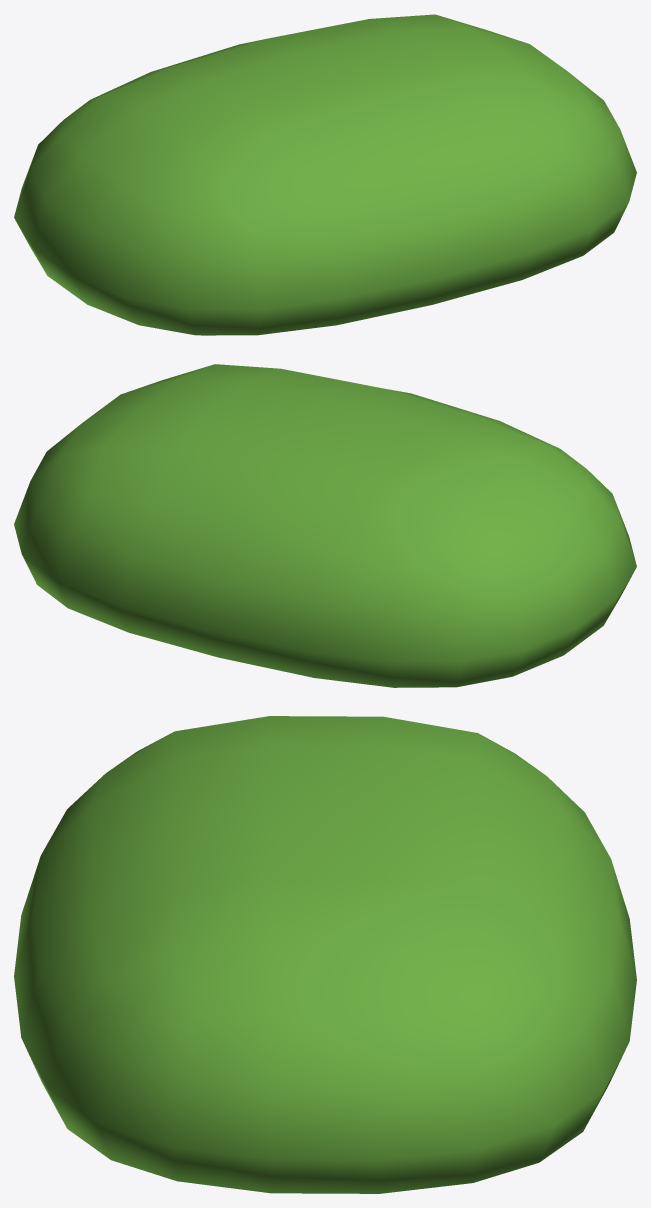
Rendered from Pillow_001.fbx.
3 renders of one model, top to bottom at view 1: azimuth 30°, elevation 25°; view 2: azimuth 150°, elevation 25°; view 3: azimuth 270°, elevation 25°, orthographic. The views are drawn at different scales.
Parts seen in each view (by area): view 1: Pillow_001; view 2: Pillow_001; view 3: Pillow_001.
Boxes of the visible parts, x1,y1,x2,y2 form: Pillow_001: [14, 14, 636, 335]; Pillow_001: [14, 364, 636, 687]; Pillow_001: [14, 716, 636, 1193].
Size of the model in its own units: 0.462 by 0.143 by 0.3356.
